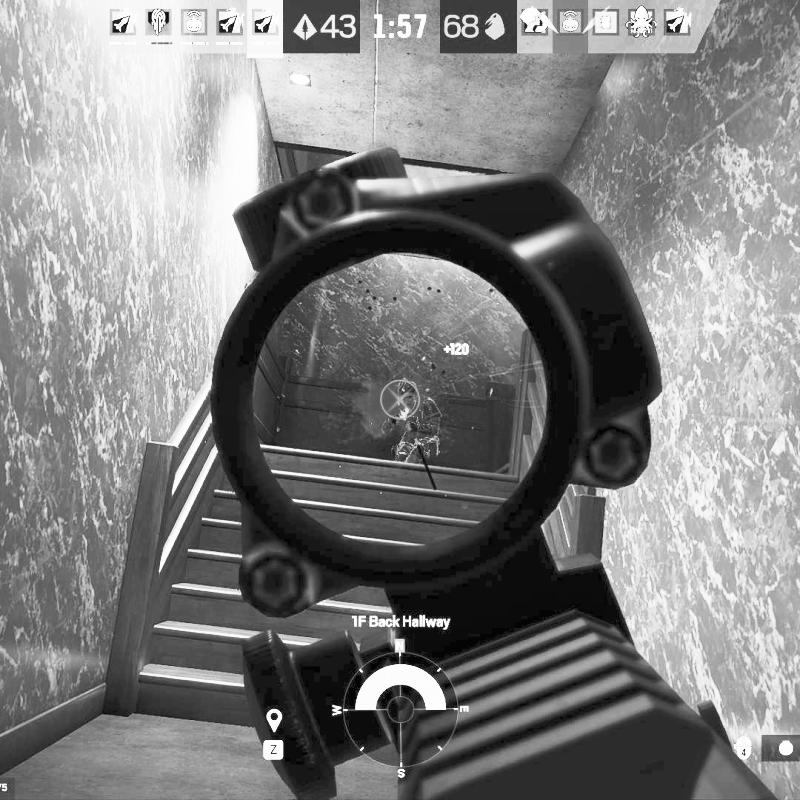Character: (381, 374, 448, 468)
Head: (395, 377, 422, 407)
